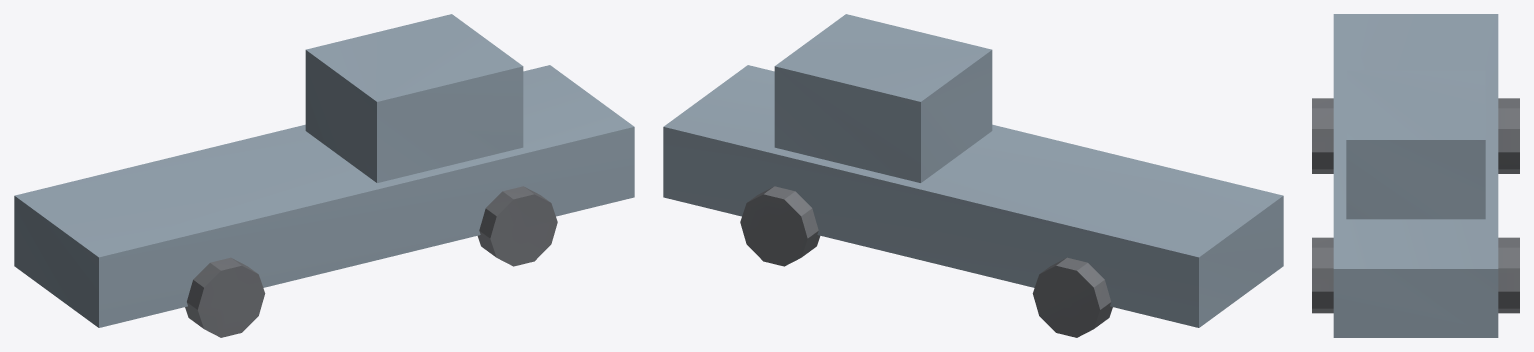
The model's file is road_vehicle-07.glb.
The picture shows the model from 3 angles, left to right: view 1: azimuth 30°, elevation 25°; view 2: azimuth 150°, elevation 25°; view 3: azimuth 270°, elevation 25°; orthographic projection. The views are drawn at different scales.
Parts seen in each view (by area): view 1: world; view 2: world; view 3: world.
Boxes of the visible parts, left/top/right/bottom form: world: left=14, top=14, right=634, bottom=337; world: left=663, top=14, right=1283, bottom=337; world: left=1312, top=14, right=1519, bottom=337.
Bounding box in the file's own units: 2.38 × 0.7677 × 0.82.
